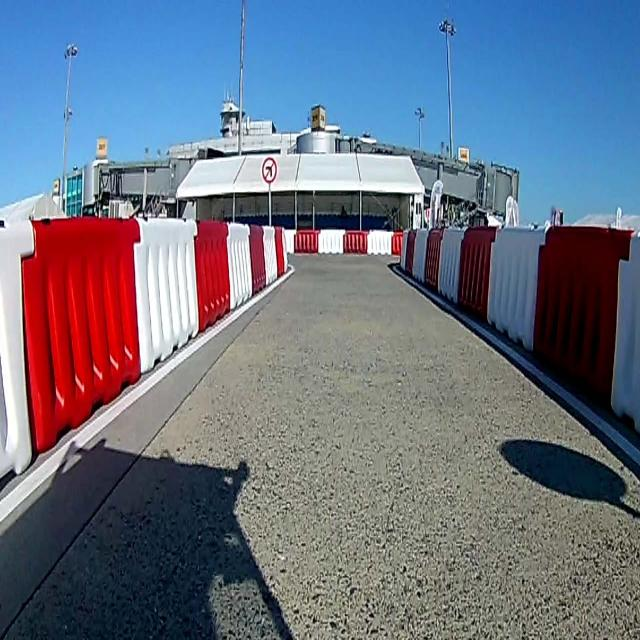soladonulmez: (261, 155, 278, 189)
